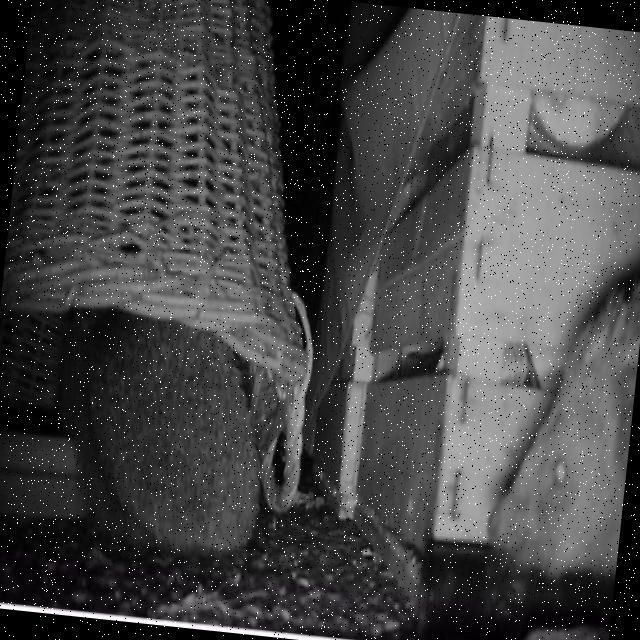Hedgehog: (73, 312, 270, 570)
